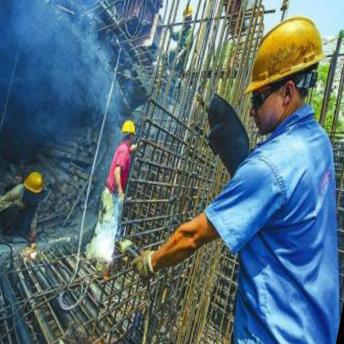helmet: (242, 14, 326, 96), (22, 170, 44, 194), (119, 119, 137, 135)
